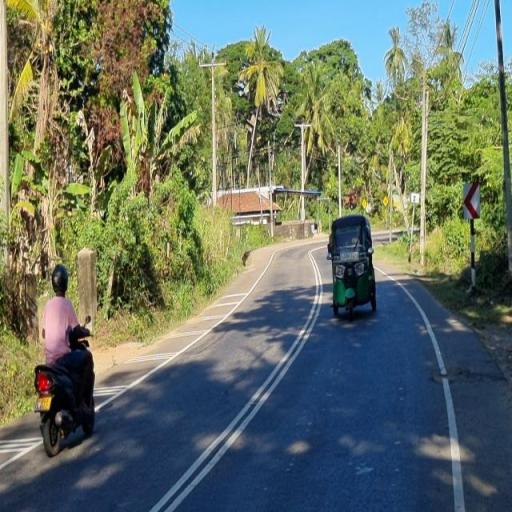double_white_line: (143, 245, 329, 511)
